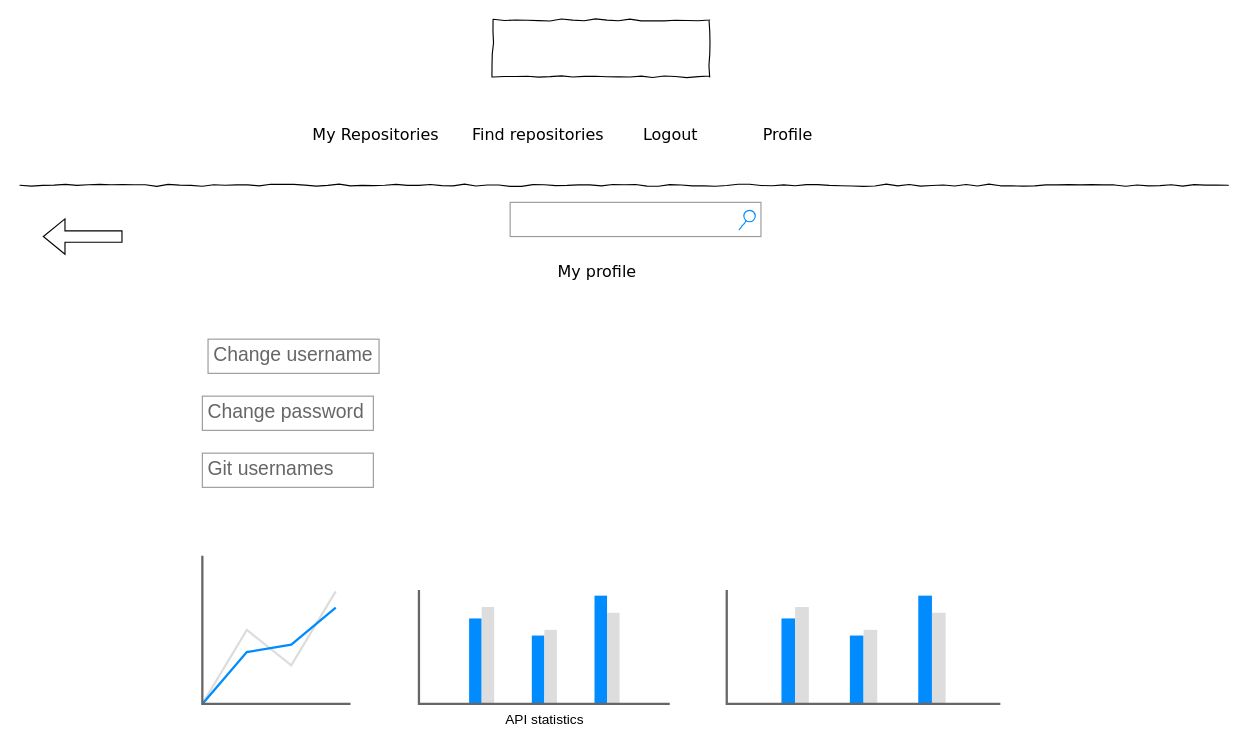
This 1248x748 diagram has some shape labels left out. Each missing label, with the centre of its shape:
"LOGO" belongs at point (601, 48).
"Search" belongs at point (635, 219).
